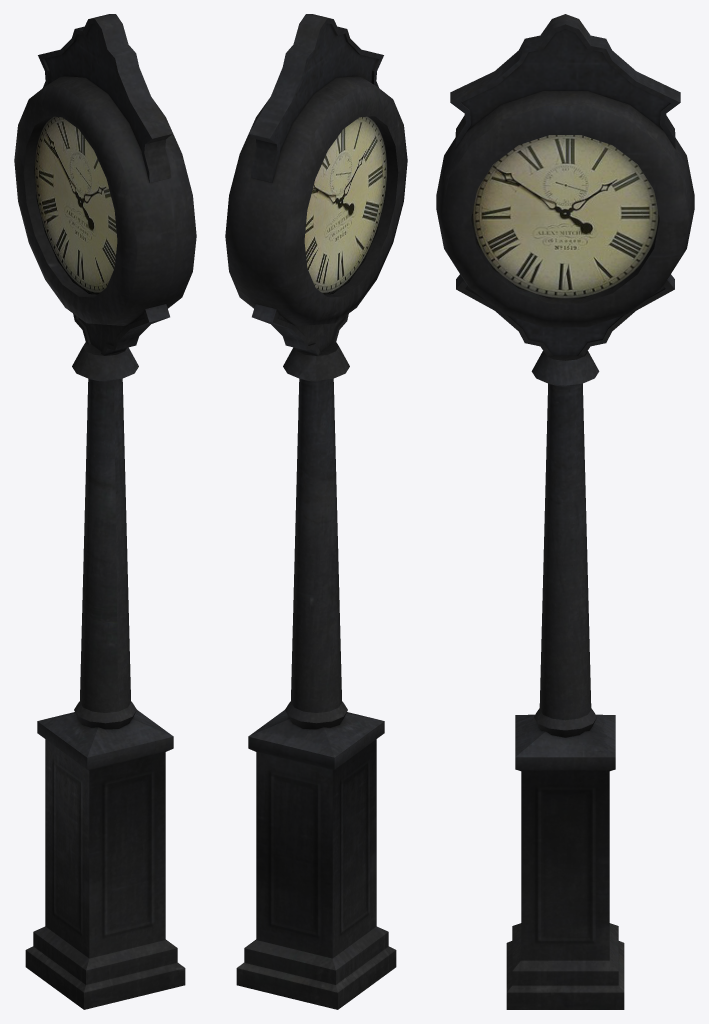
Rendered from rcp2_street_clock_01.FBX.
The picture shows the model from 3 angles, left to right: view 1: azimuth 30°, elevation 25°; view 2: azimuth 150°, elevation 25°; view 3: azimuth 270°, elevation 25°; orthographic projection.
Parts seen in each view (by area): view 1: rcp2_street_clock_01; view 2: rcp2_street_clock_01; view 3: rcp2_street_clock_01.
Part boxes in pixels (bbox=[...]): rcp2_street_clock_01: bbox=[14, 14, 196, 1009]; rcp2_street_clock_01: bbox=[225, 14, 407, 1009]; rcp2_street_clock_01: bbox=[436, 14, 694, 1009].
Size of the model in its own units: 47.01 by 426 by 103.
